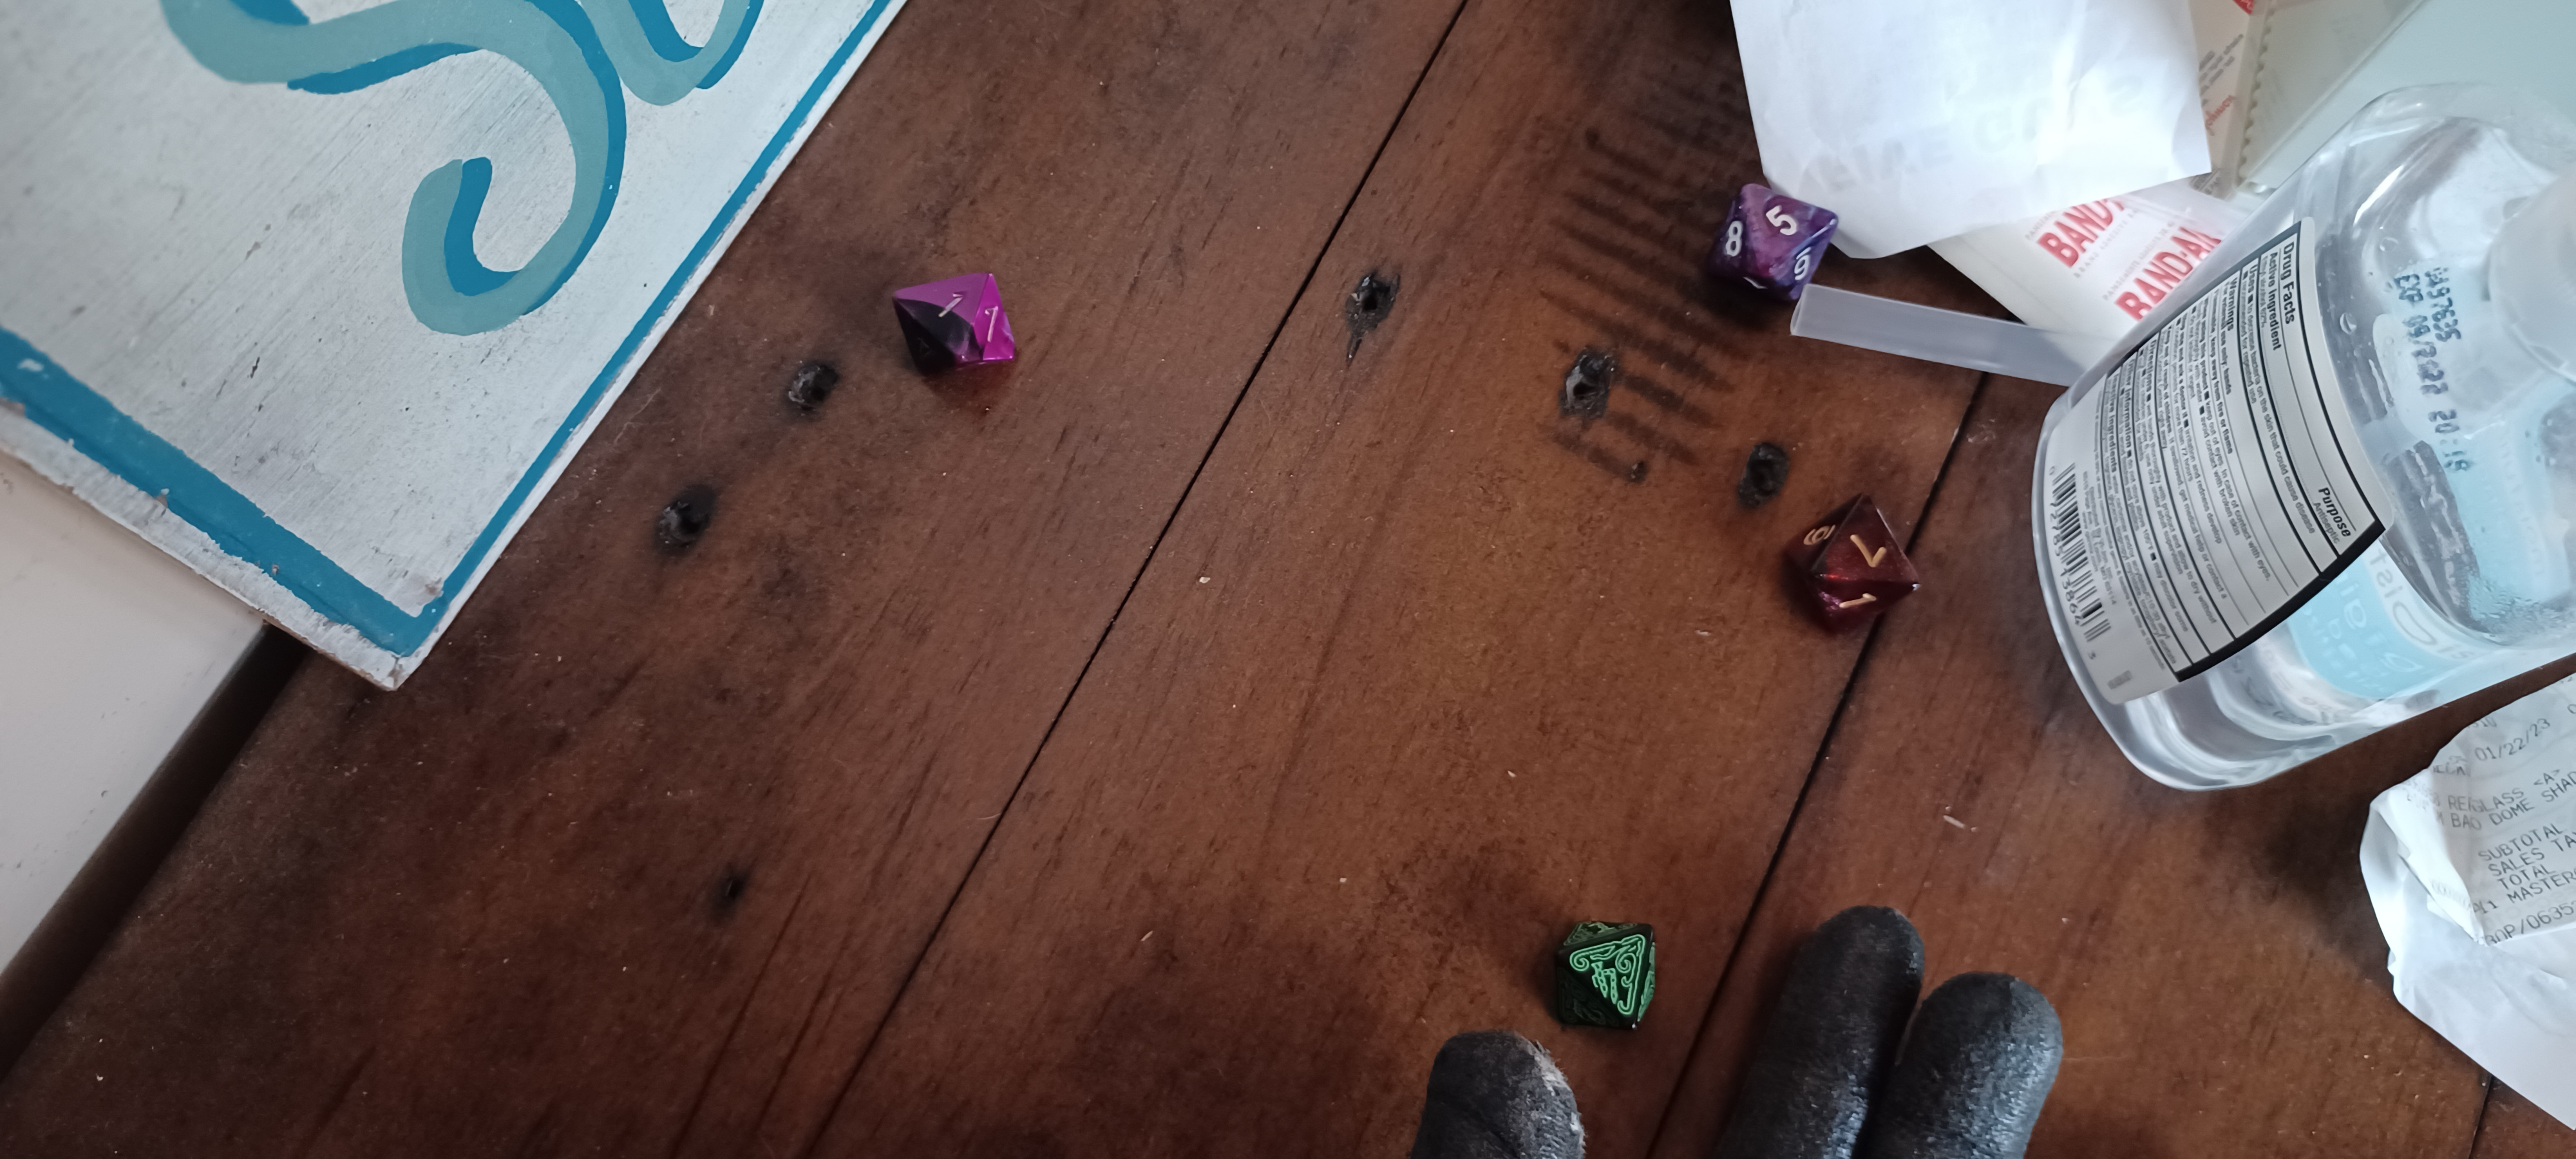five: (1686, 161, 1870, 340)
four: (1525, 890, 1694, 1046)
one: (866, 240, 1055, 405)
seven: (1753, 460, 1952, 657)
